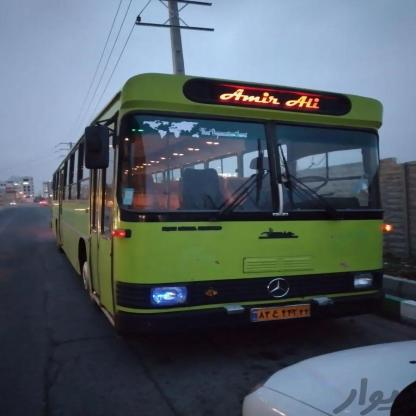Bus: (51, 61, 398, 332)
Car: (228, 337, 414, 416)
